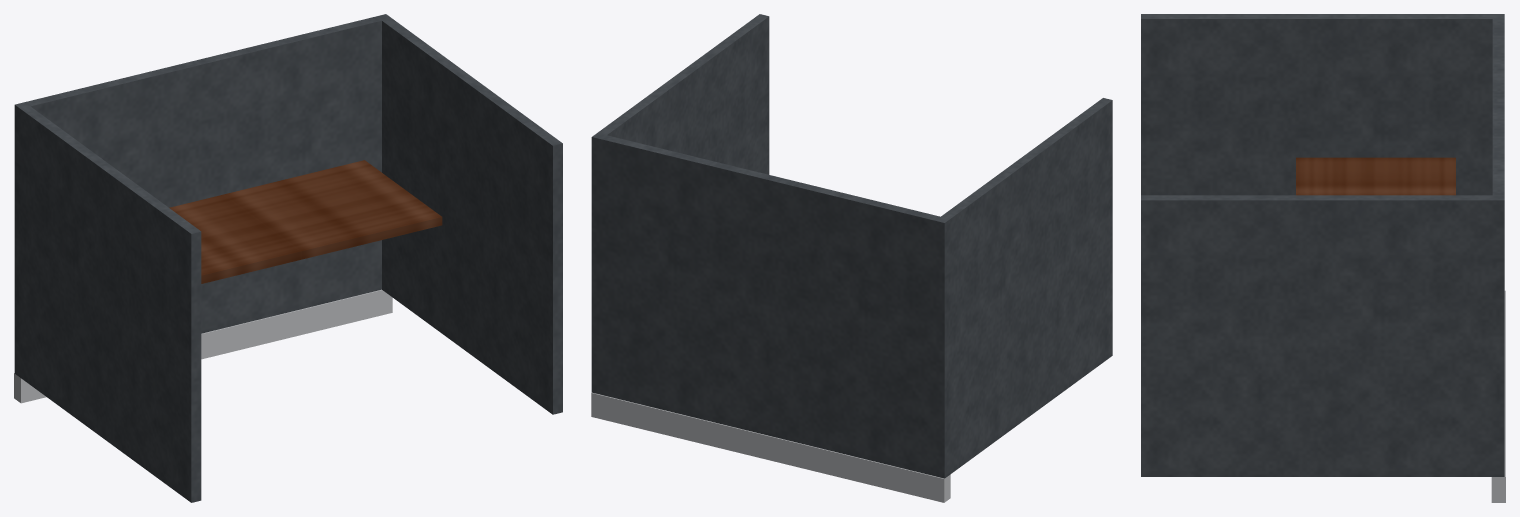
Rendered from cubicle.glb.
3 renders of one model, left to right at view 1: azimuth 30°, elevation 25°; view 2: azimuth 150°, elevation 25°; view 3: azimuth 270°, elevation 25°, orthographic. The views are drawn at different scales.
Parts seen in each view (by area): view 1: Cubicle; view 2: Cubicle; view 3: Cubicle.
Part boxes in pixels (bbox=[...]): Cubicle: bbox=[14, 14, 562, 502]; Cubicle: bbox=[591, 14, 1112, 502]; Cubicle: bbox=[1141, 14, 1505, 502].
Size of the model in its own units: 1.85 by 1.4 by 1.53.
3 materials, 2 textured.
